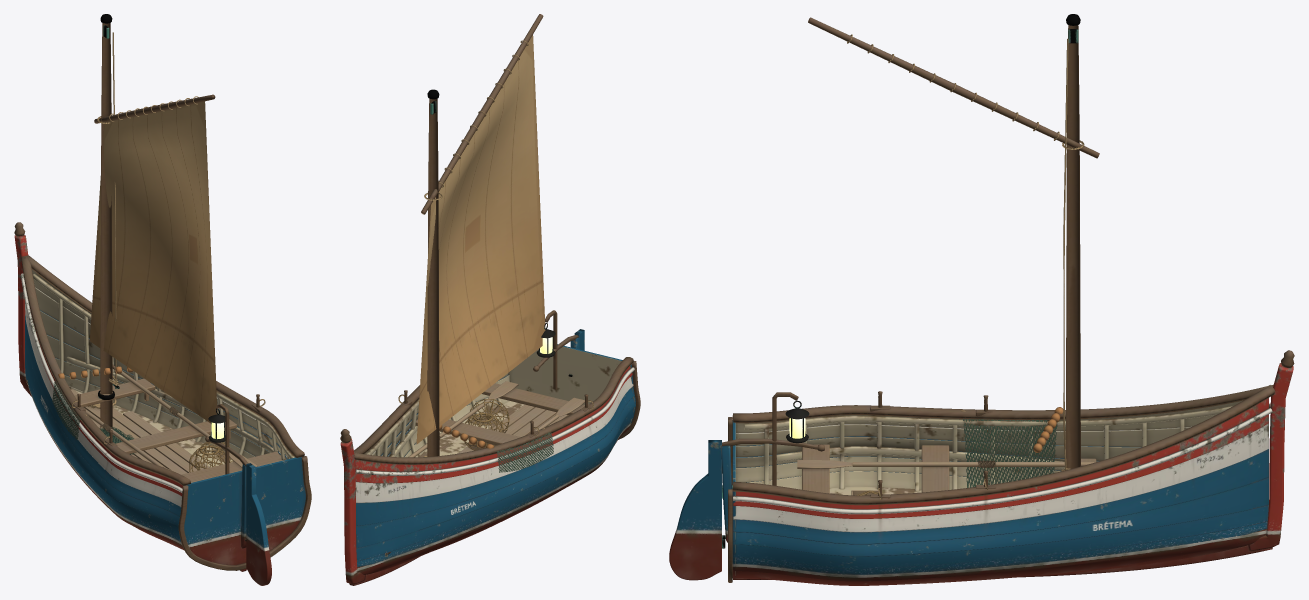
The model's file is dorna.glb.
The picture shows the model from 3 angles, left to right: view 1: azimuth 30°, elevation 25°; view 2: azimuth 150°, elevation 25°; view 3: azimuth 270°, elevation 25°; orthographic projection. The views are drawn at different scales.
Parts seen in each view (by area): view 1: Sail, HullTimber, HullPaint, HullGear, HullNet, YardTimber; view 2: Sail, HullPaint, HullTimber, HullGear, YardTimber, HullNet; view 3: HullPaint, HullTimber, HullNet, HullGear, YardTimber.
Part boxes in pixels (<box>): Sail: <box>89,101,217,423</box>; HullTimber: <box>14,23,311,570</box>; HullPaint: <box>14,235,305,585</box>; HullGear: <box>26,14,265,540</box>; HullNet: <box>52,381,134,454</box>; YardTimber: <box>94,94,215,123</box>; Sail: <box>416,35,545,444</box>; HullPaint: <box>340,329,635,585</box>; HullTimber: <box>340,98,640,464</box>; HullGear: <box>385,89,593,556</box>; YardTimber: <box>421,14,543,214</box>; HullNet: <box>495,432,553,472</box>; HullPaint: <box>669,363,1293,585</box>; HullTimber: <box>722,25,1294,582</box>; HullNet: <box>963,418,1057,487</box>; HullGear: <box>722,14,1080,548</box>; YardTimber: <box>808,17,1099,158</box>.
Bounding box in the file's own units: 2.57 × 6.76 × 6.8.
6 materials, 5 textured.
